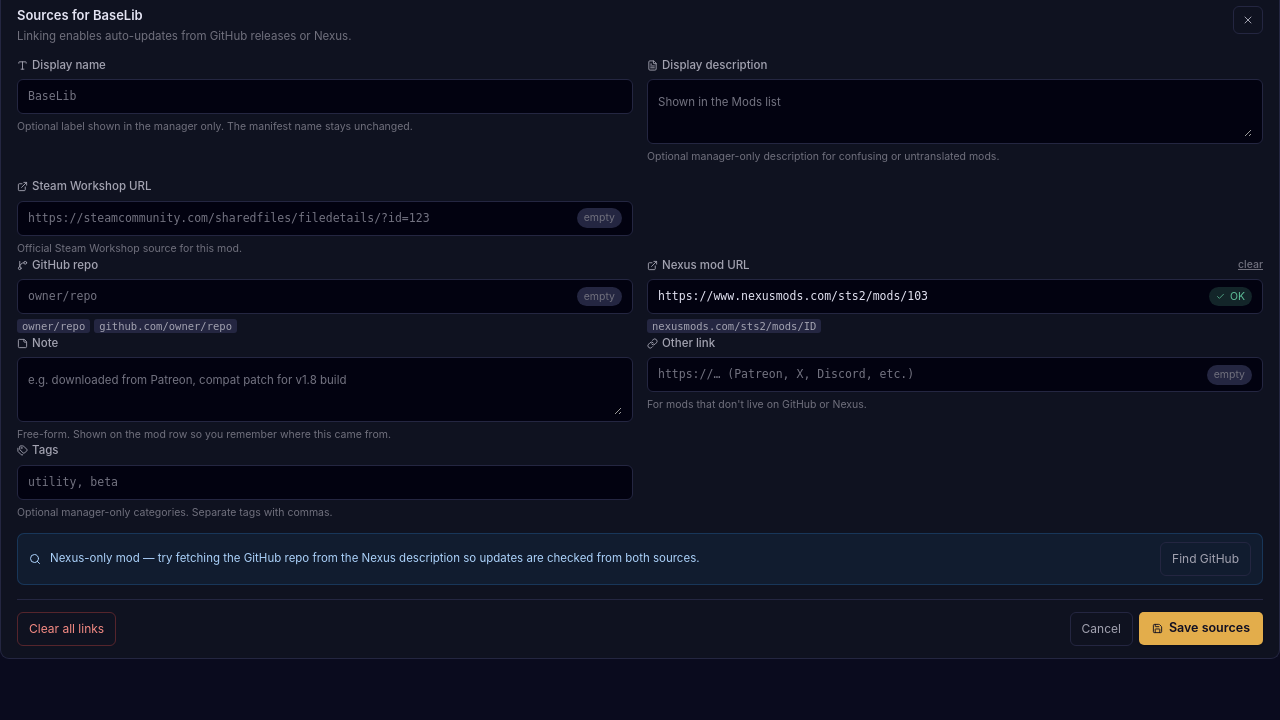
Test: <SourceEditor> › a successful Find populates the GitHub field and drops the Nexus-only banner
Expected: the text "Nexus-only mod" is shown, [50,551,700,565]
Click the button "Find GitHub" at [1206, 558], box [1160,542,1251,576]
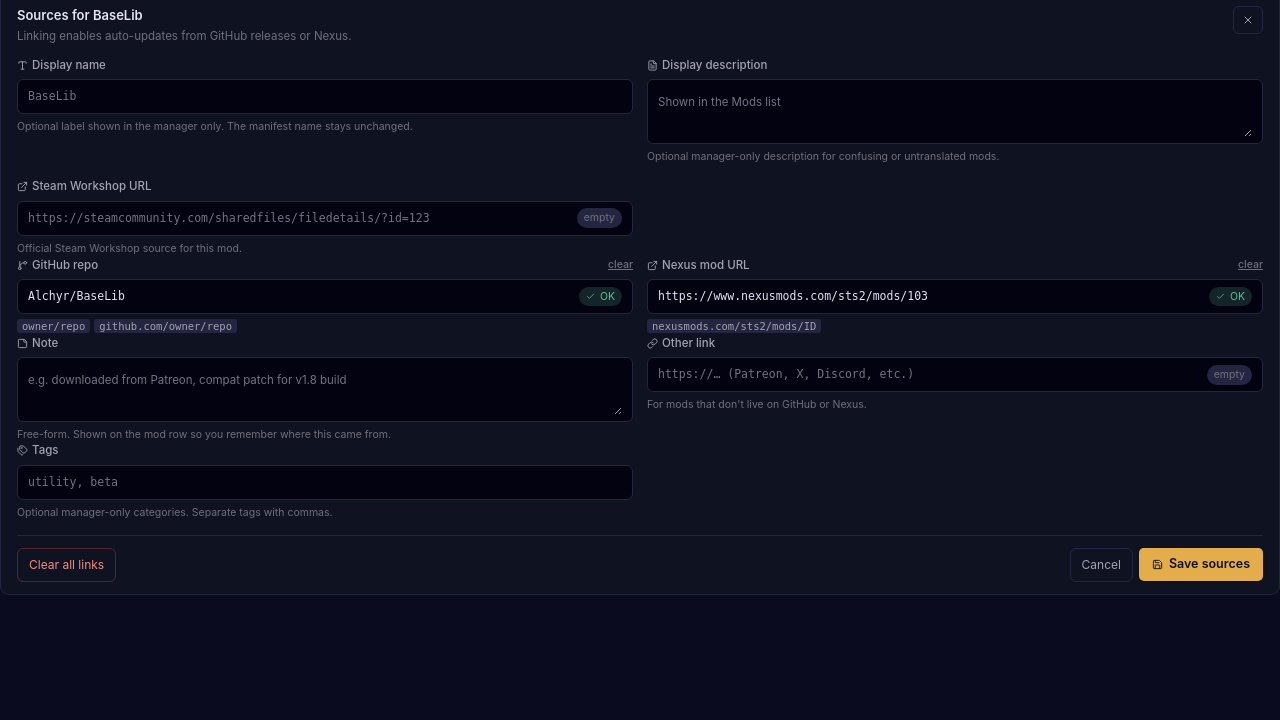
Now the field with placeholder "owner/repo" below "GitHub repo" holds "Alchyr/BaseLib", box [28,280,571,313]
Now the text "Nexus-only mod" is gone
Now the button "Find GitHub" is gone
